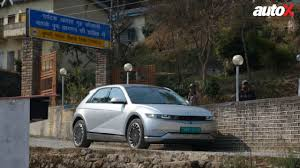Honda Ioniq: (65, 81, 224, 163)
